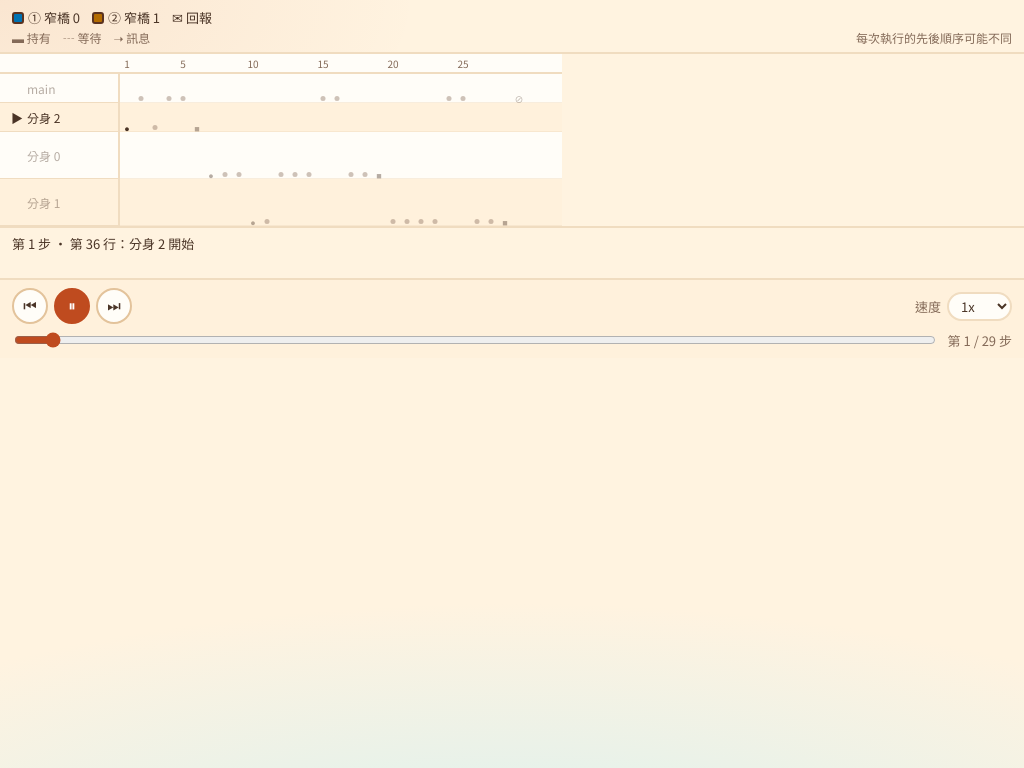
Scenario: S2-3 TimelineView（ux §11） › 自動播放與播放控制 › 事件標記按 Enter 跳到該步
Set the slider named "進度" to "10": (334,340) [14,332,936,348]
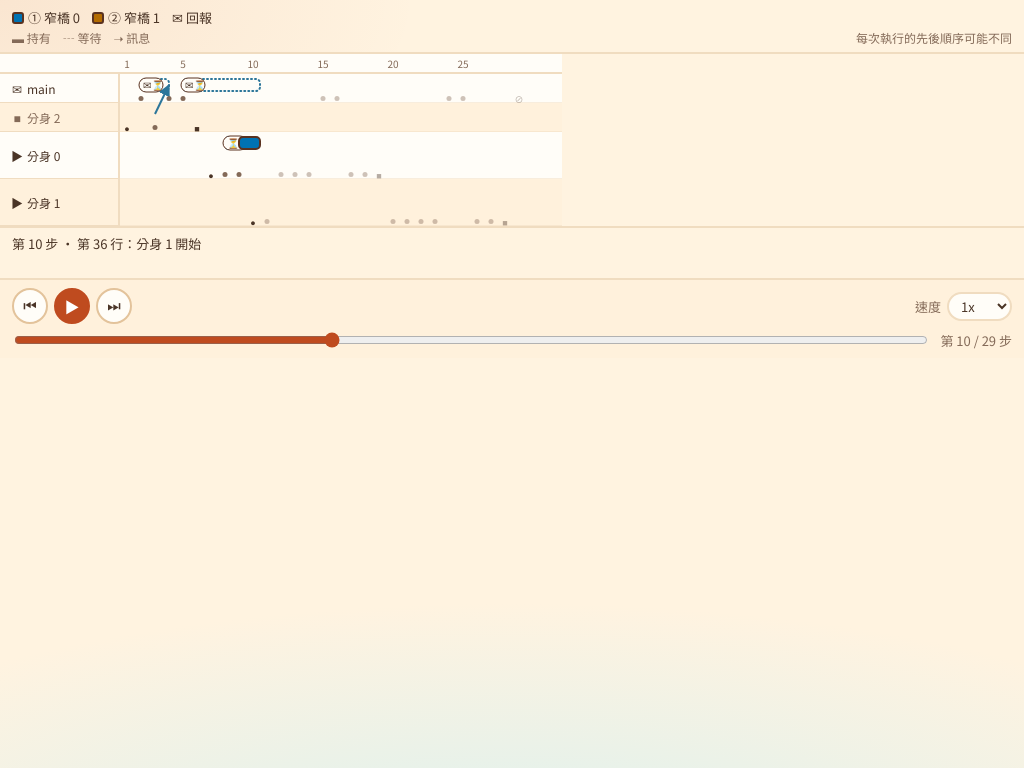
Press Enter in the element with test id "tl-event", box [152,125,158,130]
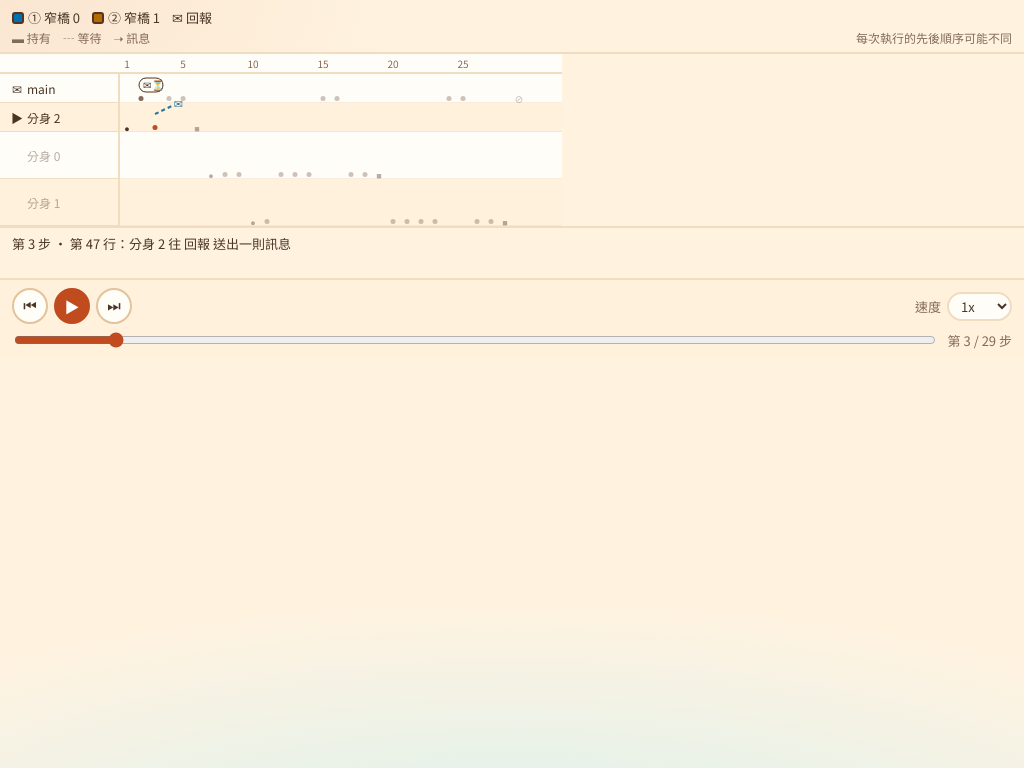
Check: the text with test id "step-label" reads "第 3 / 29 步", box [948,330,1012,350]
